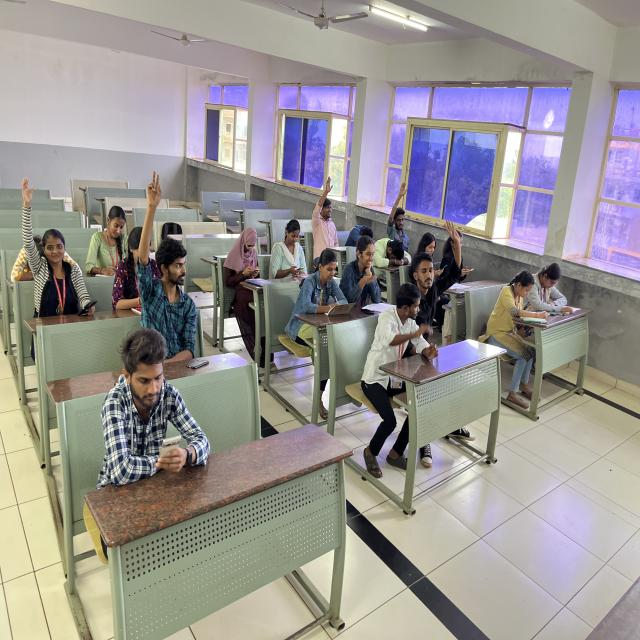Hand Rising: (132, 165, 209, 338), (15, 170, 94, 332), (411, 213, 466, 327), (307, 167, 340, 260), (382, 176, 416, 240)
Reading: (80, 203, 136, 285), (484, 267, 543, 344), (529, 249, 573, 318)
Sleeping: (368, 234, 412, 275), (344, 218, 381, 254)
Using Phone: (98, 321, 214, 487), (223, 224, 268, 308), (269, 218, 314, 290), (418, 224, 450, 283)
Writing: (291, 248, 362, 328)
